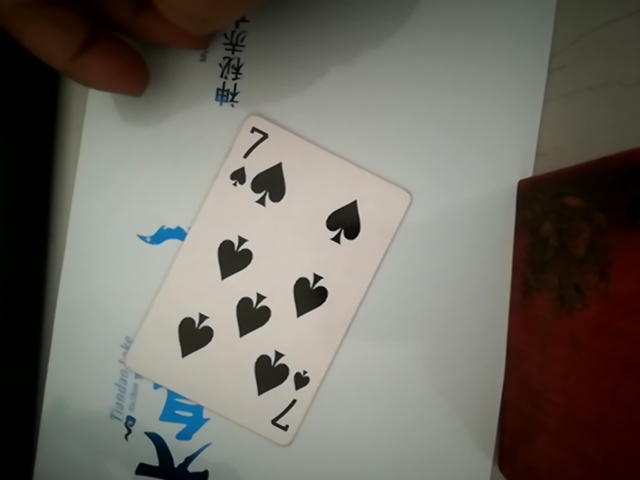ht 7: (135, 112, 406, 441)
